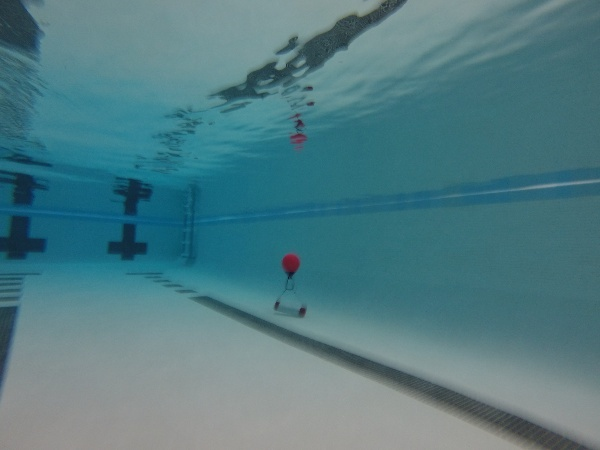buoy_red: (278, 252, 303, 280)
